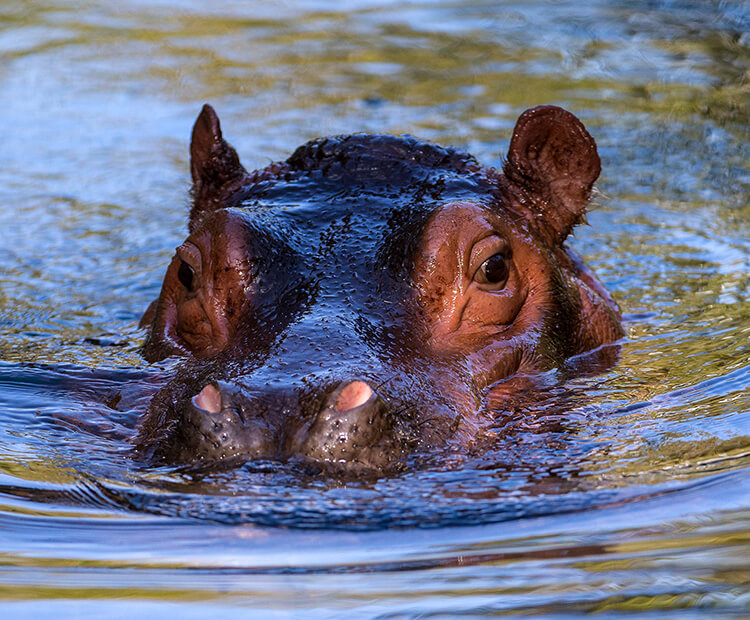Hippopotamus: (129, 102, 629, 492)
